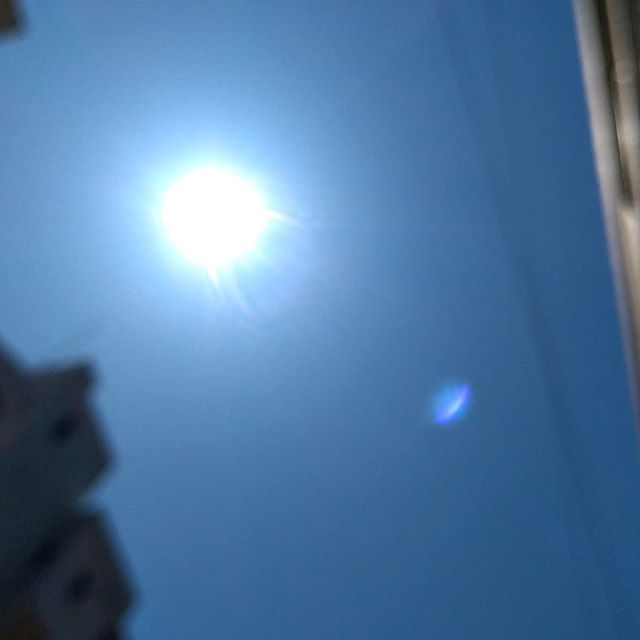sky: (1, 5, 633, 629)
sun: (151, 150, 283, 270)
